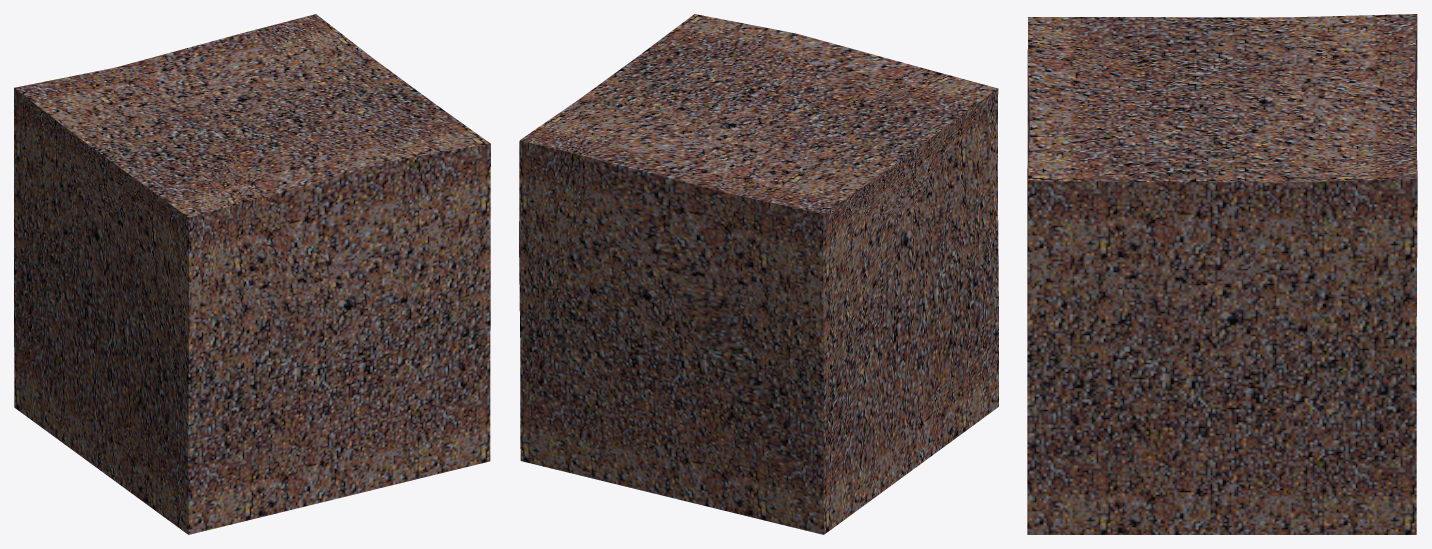
Rendered from GroundTile.fbx.
The picture shows the model from 3 angles, left to right: view 1: azimuth 30°, elevation 25°; view 2: azimuth 150°, elevation 25°; view 3: azimuth 270°, elevation 25°; orthographic projection. The views are drawn at different scales.
Parts seen in each view (by area): view 1: Cube.001; view 2: Cube.001; view 3: Cube.001.
Boxes of the visible parts, x1,y1,x2,y2 form: Cube.001: [14, 14, 490, 534]; Cube.001: [519, 14, 998, 534]; Cube.001: [1027, 14, 1417, 534].
Size of the model in its own units: 201 by 205 by 201.
